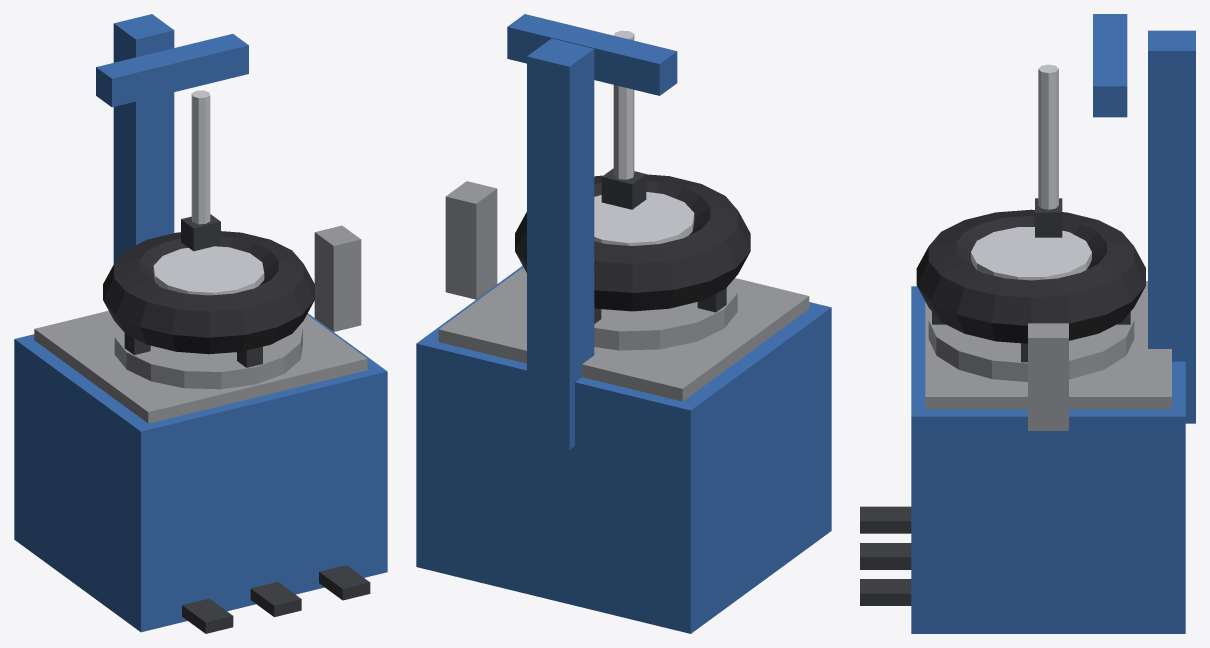
The model's file is tire_changer.glb.
3 renders of one model, left to right at view 1: azimuth 30°, elevation 25°; view 2: azimuth 150°, elevation 25°; view 3: azimuth 270°, elevation 25°, orthographic. The views are drawn at different scales.
Visible parts, largest first — view 1: tire_changer; view 2: tire_changer; view 3: tire_changer.
Boxes of the visible parts, bbox=[...] form: tire_changer: bbox=[14, 14, 387, 633]; tire_changer: bbox=[416, 14, 831, 633]; tire_changer: bbox=[860, 14, 1195, 633].
Size of the model in its own units: 1 by 1.7 by 0.98.
